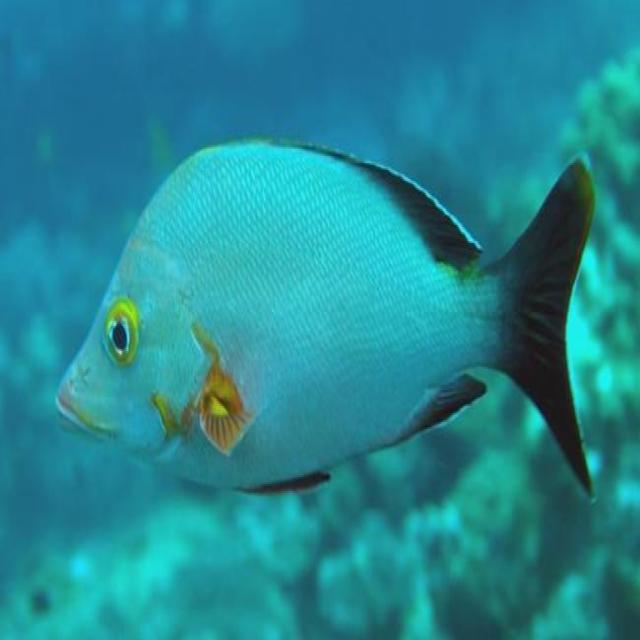ikan: (54, 133, 596, 500)
